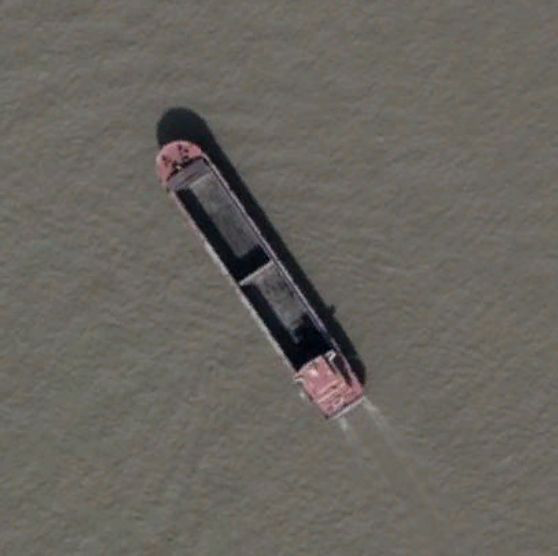boat: (151, 135, 367, 422)
